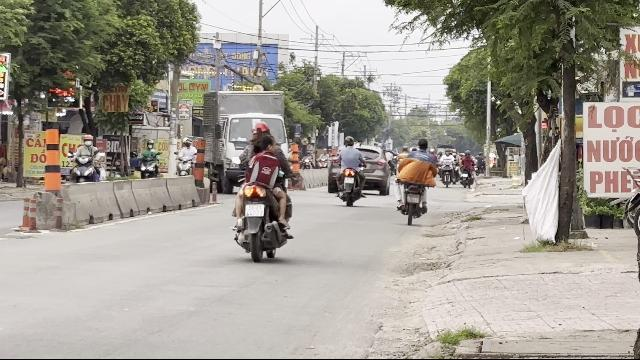helmet: (250, 120, 270, 140)
licenseplate: (246, 204, 264, 216)
motorcyclist: (228, 121, 296, 262)
nohelmet: (253, 133, 274, 153)
